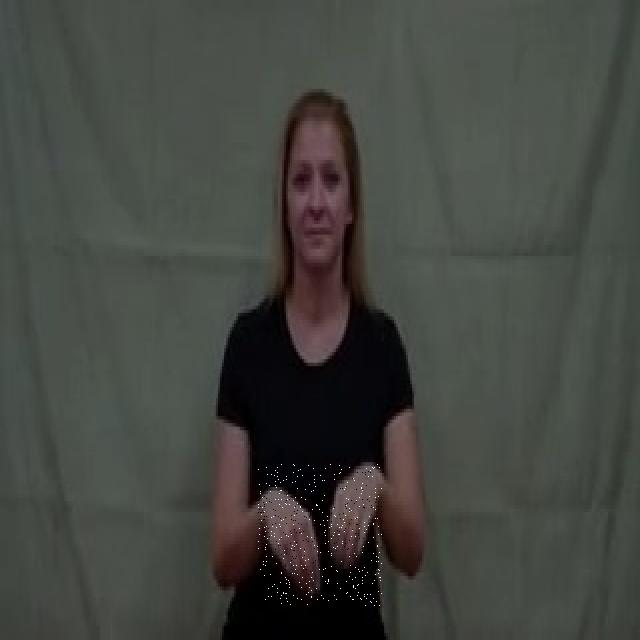ingredients: (258, 464, 382, 606)
